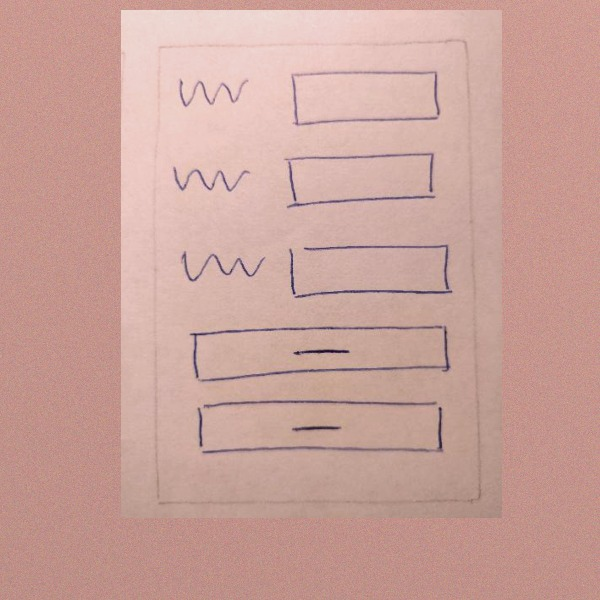button: (182, 396, 456, 459), (178, 322, 459, 382)
text: (168, 243, 270, 287), (167, 156, 260, 197), (172, 73, 257, 108)
text_input: (282, 237, 463, 303), (277, 147, 442, 211), (283, 69, 456, 129)
